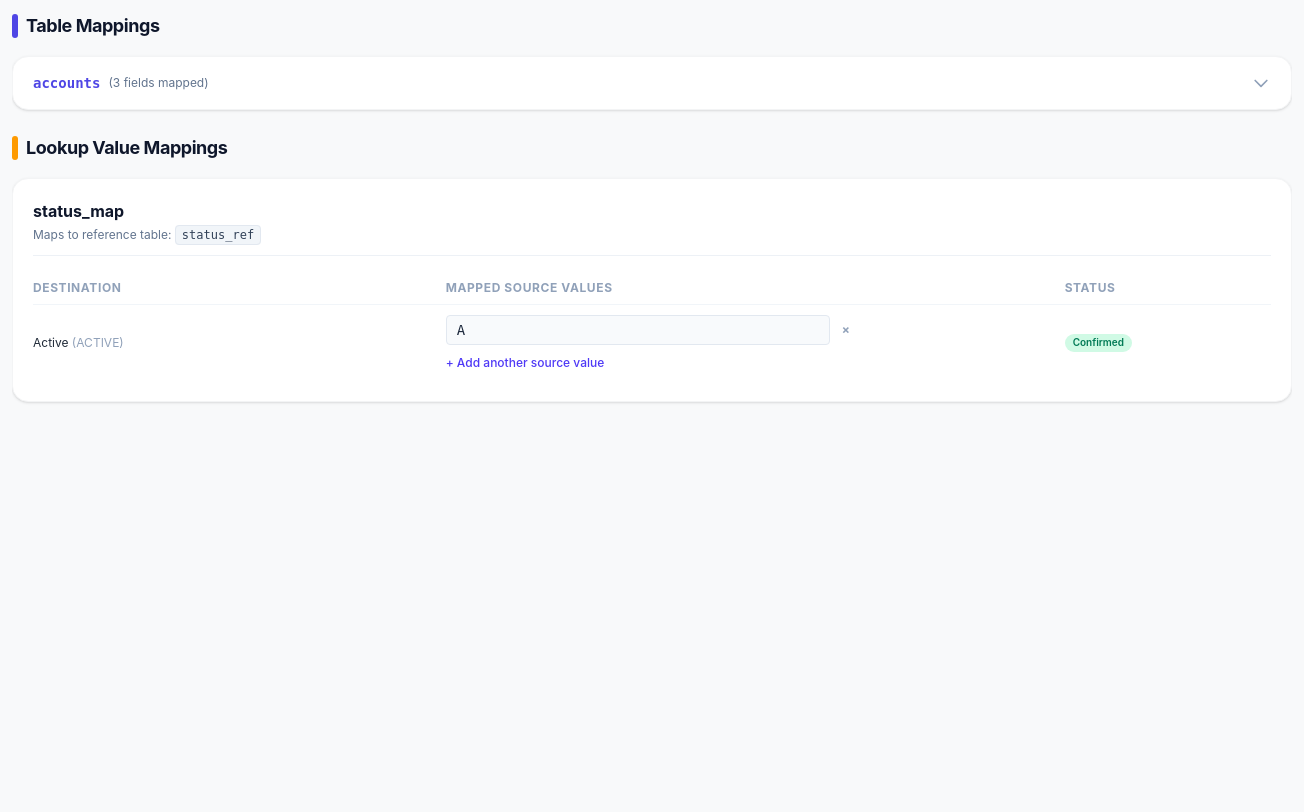
Test case: ReviewGrid › stacked destination-cell with add/remove controls › renders one row per source field, with destination fields stacked
What coordinates should you click on to do the following:
click the button "accounts (3 fields mapped)"
I would click on:
 (67, 83)
Its box is top-left (13, 57), bottom-right (1291, 109).
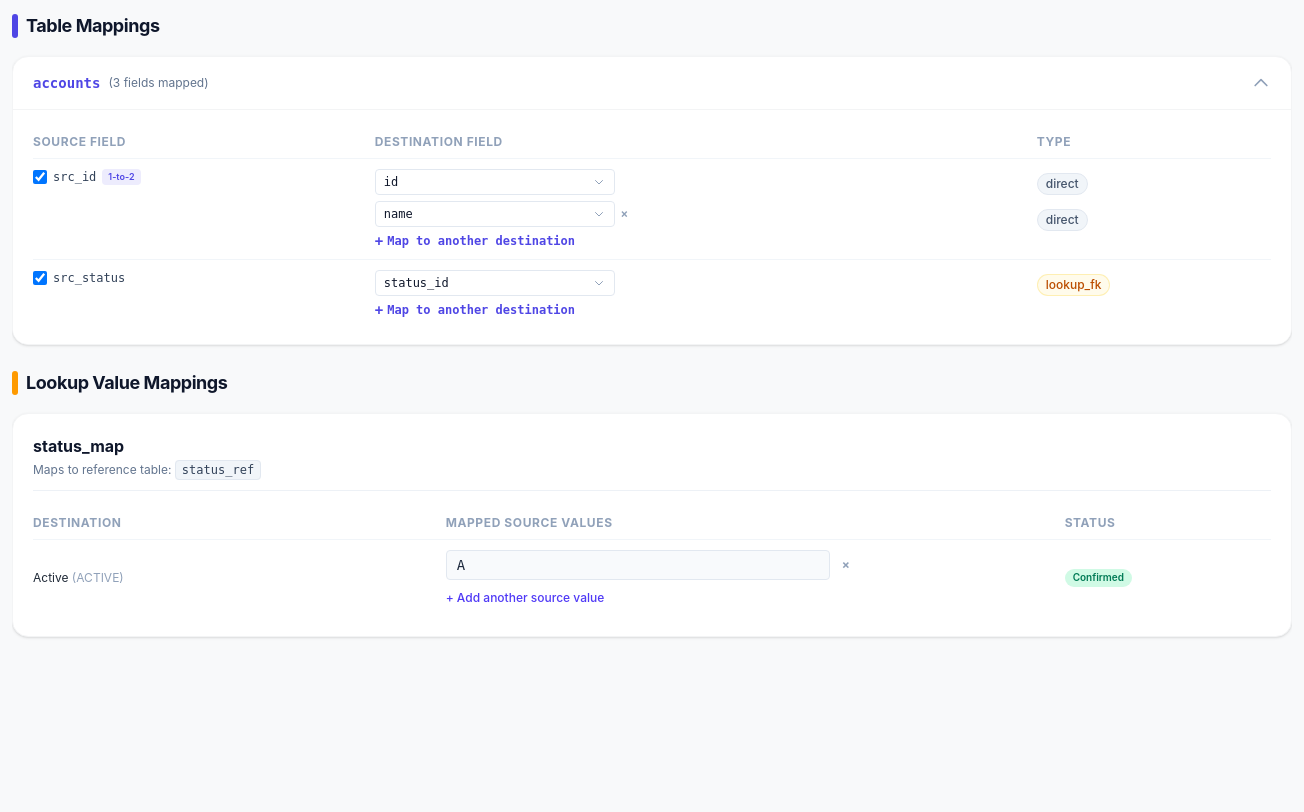
Expected: the text "src_id" is shown once, top-left (53, 169), bottom-right (96, 185)
Expected: the text "src_status" is shown once, top-left (53, 270), bottom-right (125, 286)
